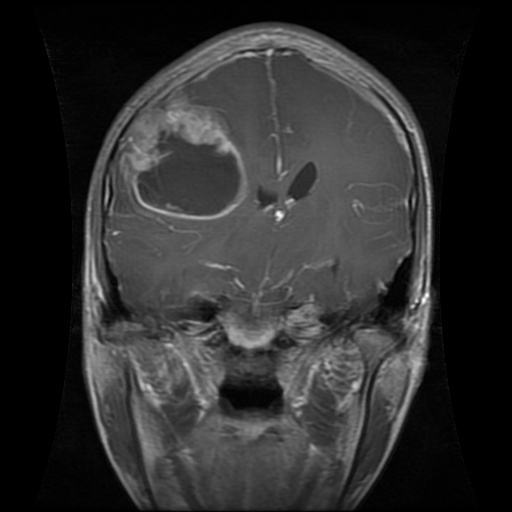glioma: (120, 87, 252, 221)
